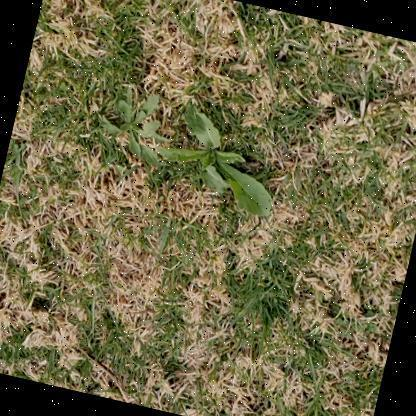Weeds: (145, 93, 292, 221), (89, 76, 180, 169)
